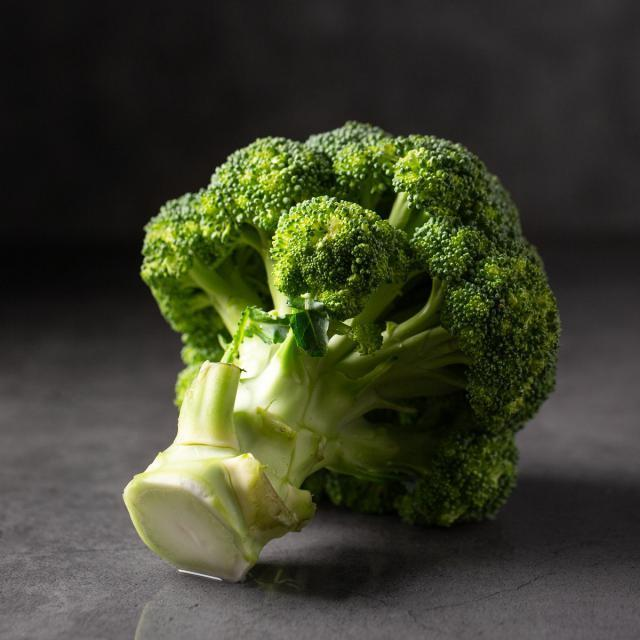broccoli: (120, 115, 562, 588)
